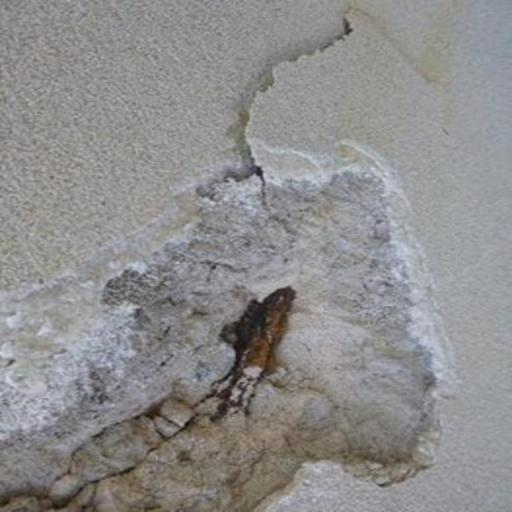spalling: (0, 166, 444, 512)
